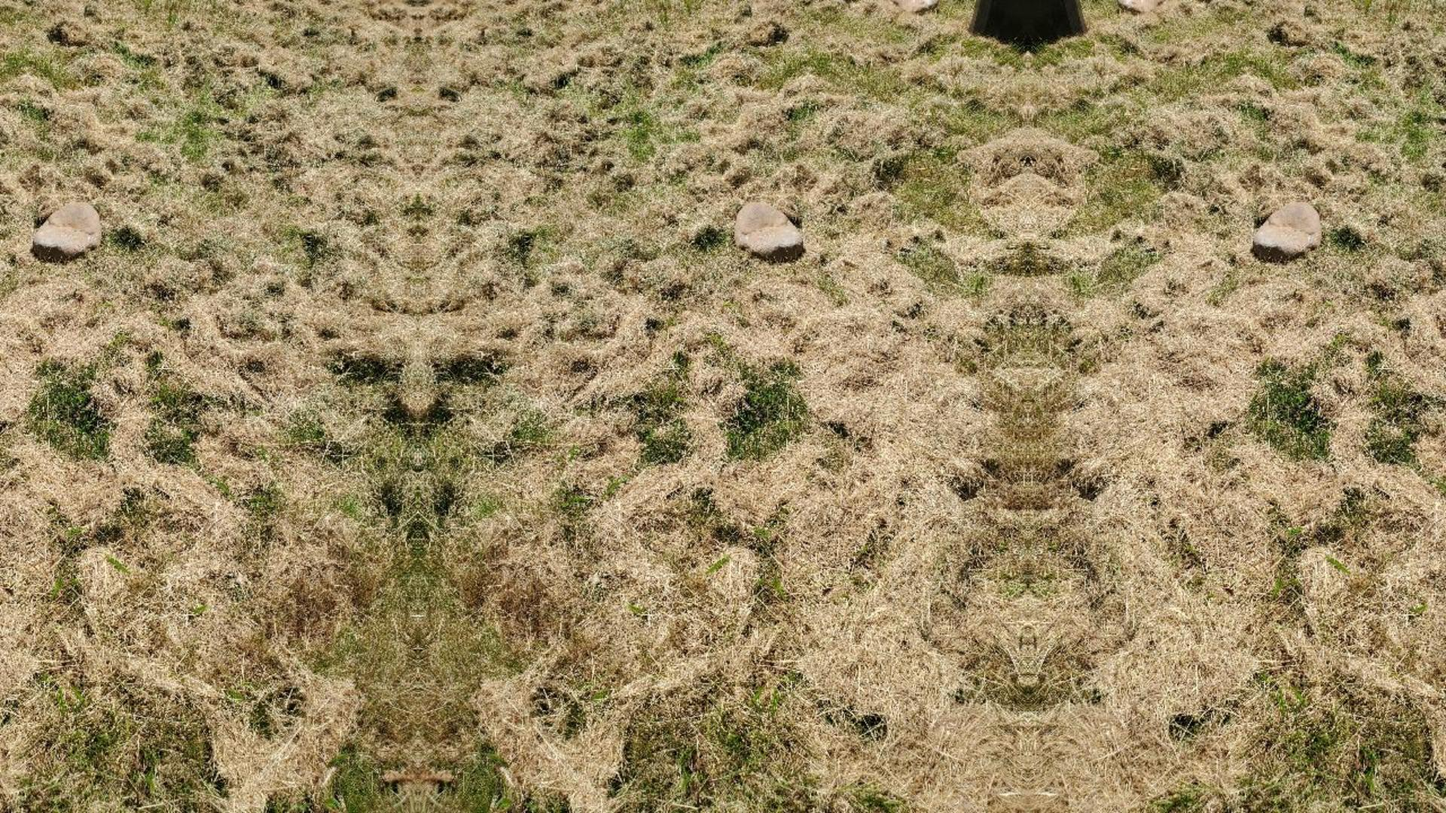rock: (734, 202, 803, 260), (1253, 202, 1321, 259), (32, 203, 101, 259)
